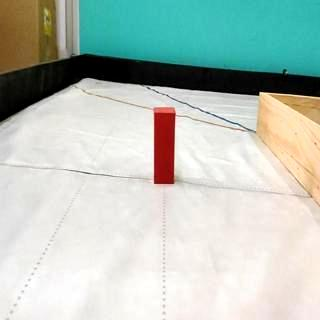redbox: (153, 107, 175, 183)
